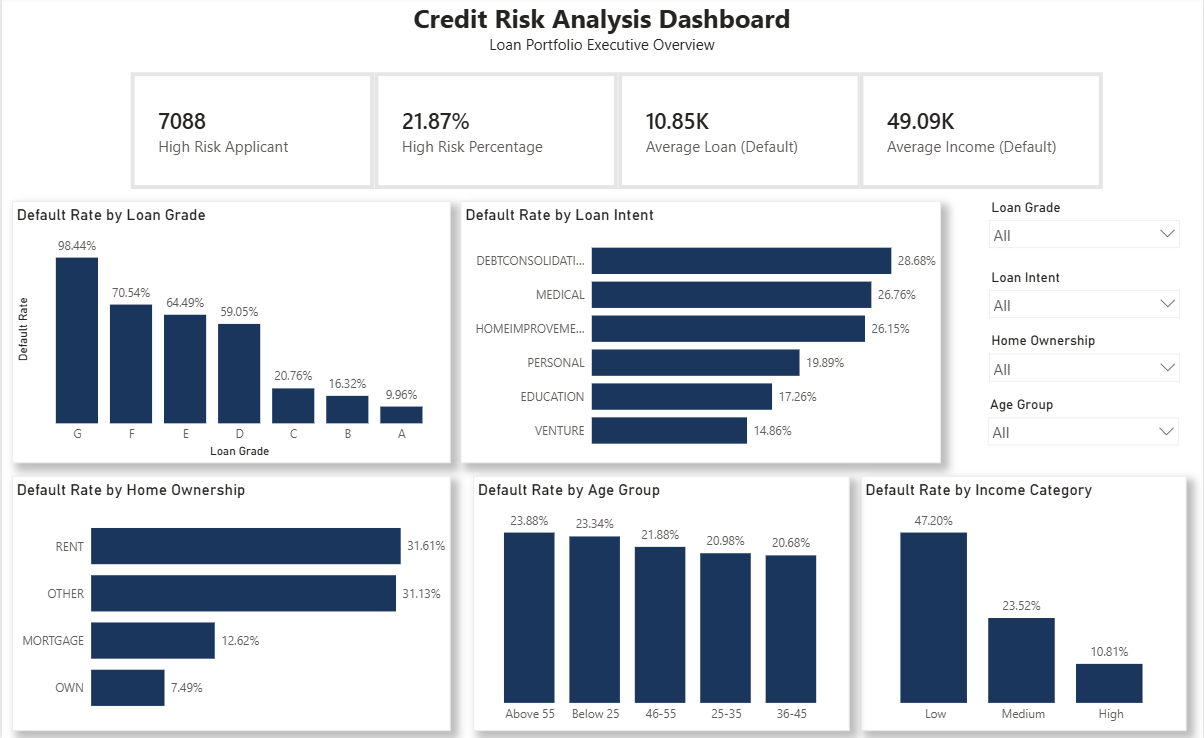

Layout of this report page (visuals, bound fields, positions):
{"tool":"powerbi","page":{"name":"Credit Risk Analysis","canvas":[1480,920],"ordinal":1},"visuals":[{"type":"textbox","box":[462.5,0,555,87.9],"z":0},{"type":"cardVisual","fields":{"Data":["Measures .High Risk Applicant"]},"box":[158.9,94,300.2,144.3],"z":1000},{"type":"slicer","fields":{"Values":["public_credit_risk.loan_grade"]},"box":[1207.4,244.4,255.6,86.8],"z":2000},{"type":"slicer","fields":{"Values":["public_credit_risk.loan_intent"]},"box":[1207,331.4,255.9,78.6],"z":3000},{"type":"cardVisual","fields":{"Data":["Measures .High Risk Percentage"]},"box":[459.1,94,300.2,144.3],"z":4000},{"type":"slicer","fields":{"Values":["public_credit_risk.person_home_ownership"]},"box":[1207,410.1,255.9,78.6],"z":5000},{"type":"cardVisual","fields":{"Data":["Measures .Average Loan (Default)"]},"box":[759.2,94,300.2,144.3],"z":6000},{"type":"clusteredColumnChart","title":"Default Rate by Loan Grade","fields":{"Category":["public_credit_risk.loan_grade"],"Y":["Measures .Default Rate"]},"box":[12.3,252.6,540.7,322.8],"z":7000},{"type":"clusteredBarChart","title":"Default Rate by Loan Intent","fields":{"Category":["public_credit_risk.loan_intent"],"Y":["Measures .Default Rate"]},"box":[566.3,252.6,592.4,322.8],"z":8000},{"type":"clusteredBarChart","title":"Default Rate by Home Ownership","fields":{"Category":["public_credit_risk.person_home_ownership"],"Y":["Measures .Default Rate"]},"box":[12.3,591.8,540.7,314.6],"z":9000},{"type":"clusteredColumnChart","fields":{"Category":["public_credit_risk.Income Category"],"Y":["Measures .Default Rate"]},"box":[1059.7,591.8,401.8,314.6],"z":10000},{"type":"clusteredColumnChart","fields":{"Category":["public_credit_risk.Age Group"],"Y":["Measures .Default Rate"]},"box":[581.1,591.8,463.8,314.6],"z":11000},{"type":"cardVisual","fields":{"Data":["Measures .Average Income (Default)"]},"box":[1057,94,299.9,144.2],"z":12000},{"type":"slicer","fields":{"Values":["public_credit_risk.Age Group"]},"box":[1205.5,488.7,255.9,86.3],"z":13000}]}

Visuals, with their boxes in screenshot pixels (x1, y1, x2, y2), scaled from the page's 1480x920 canvas onto the 1204x738 screenshot:
textbox: 376:0:828:71
cardVisual - Measures .High Risk Applicant: 129:75:373:191
slicer - public_credit_risk.loan_grade: 982:196:1190:266
slicer - public_credit_risk.loan_intent: 982:266:1190:329
cardVisual - Measures .High Risk Percentage: 373:75:618:191
slicer - public_credit_risk.person_home_ownership: 982:329:1190:392
cardVisual - Measures .Average Loan (Default): 618:75:862:191
"Default Rate by Loan Grade" clusteredColumnChart: 10:203:450:462
"Default Rate by Loan Intent" clusteredBarChart: 461:203:943:462
"Default Rate by Home Ownership" clusteredBarChart: 10:475:450:727
clusteredColumnChart - public_credit_risk.Income Category x Measures .Default Rate: 862:475:1189:727
clusteredColumnChart - public_credit_risk.Age Group x Measures .Default Rate: 473:475:850:727
cardVisual - Measures .Average Income (Default): 860:75:1104:191
slicer - public_credit_risk.Age Group: 981:392:1189:461
